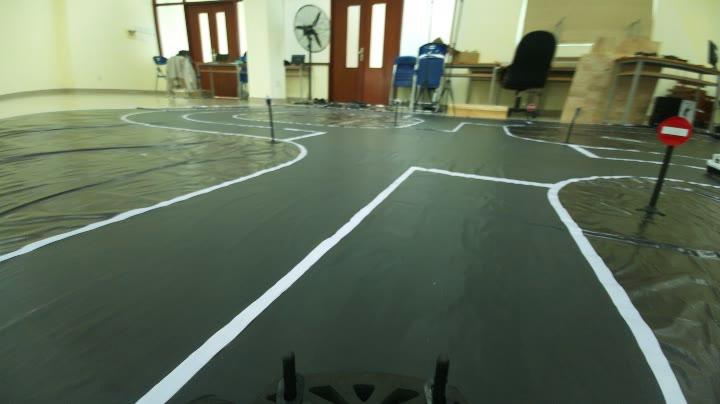no_entry: (658, 112, 693, 153)
